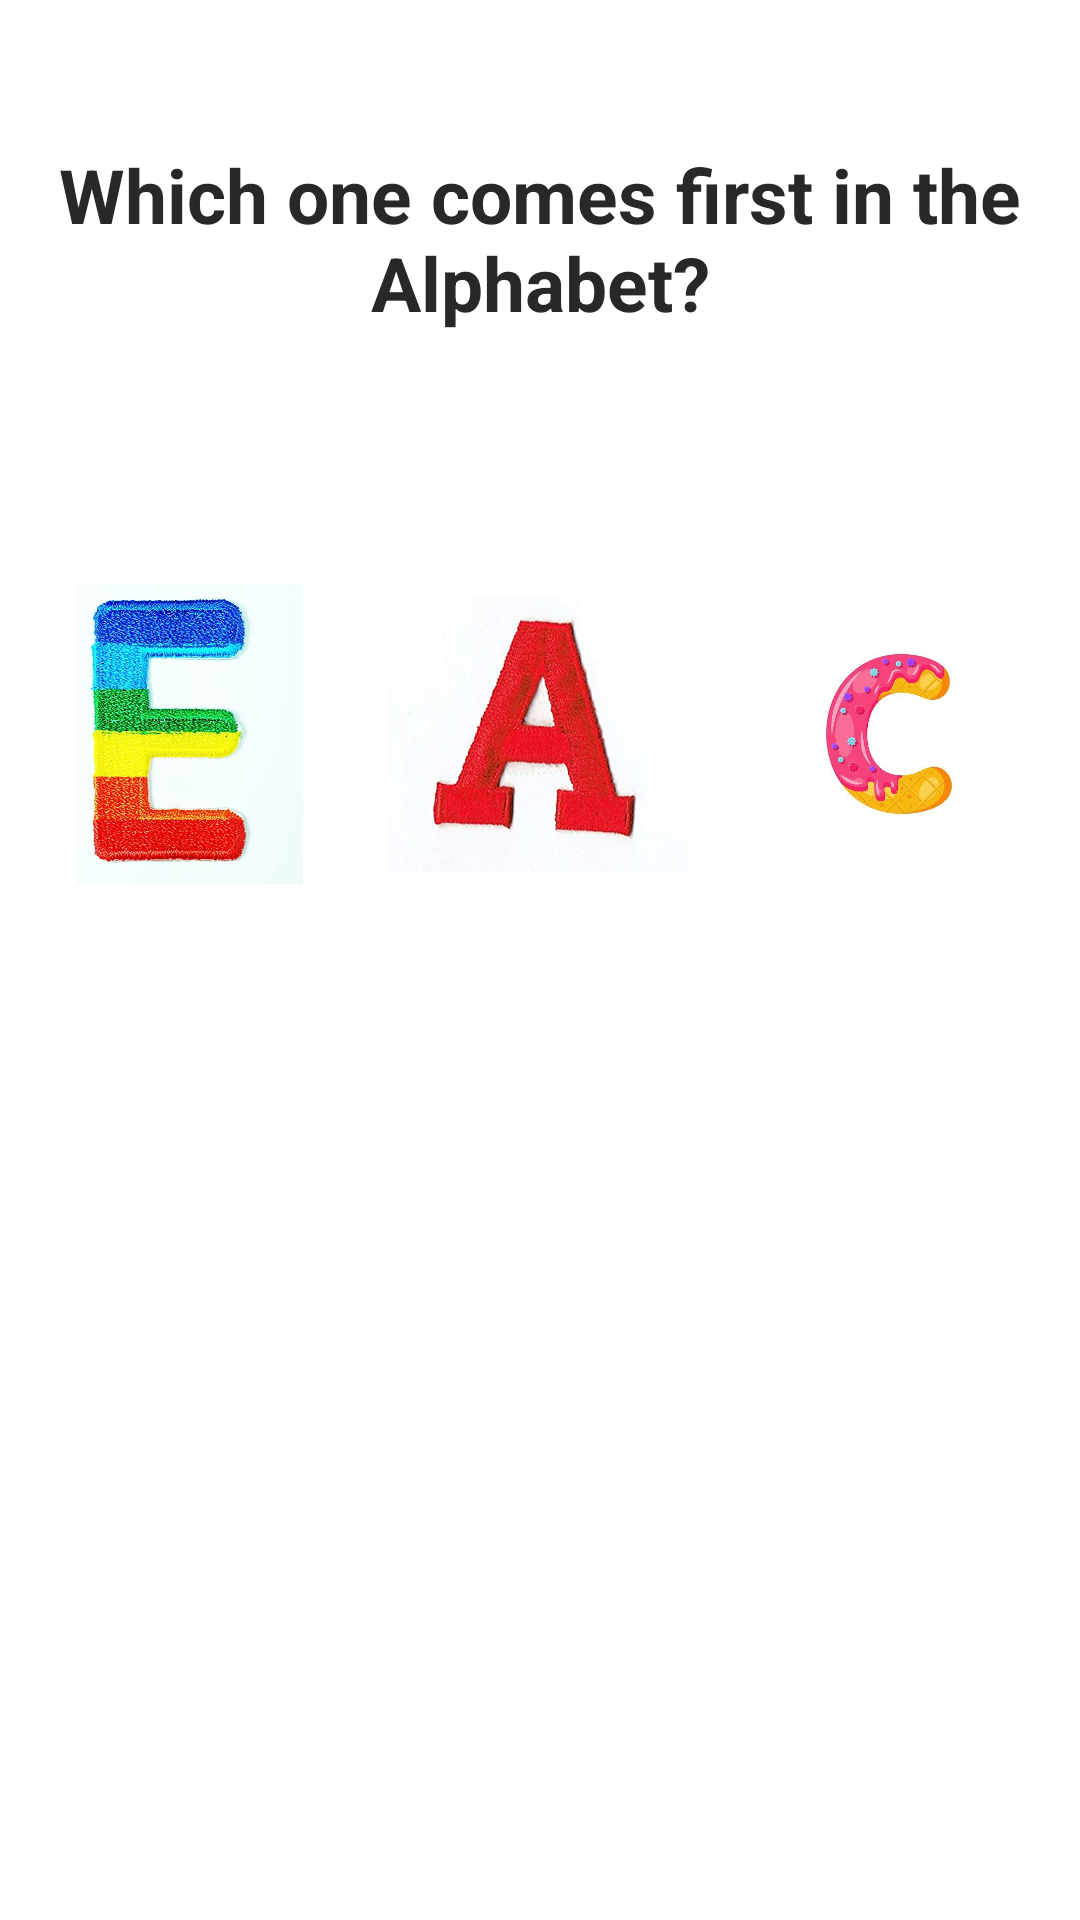

Named icons in this screenshot (1080×1920) and their centers, [x,y]:
lettera: [534,728]
letterc: [889,734]
lettere: [170,730]
